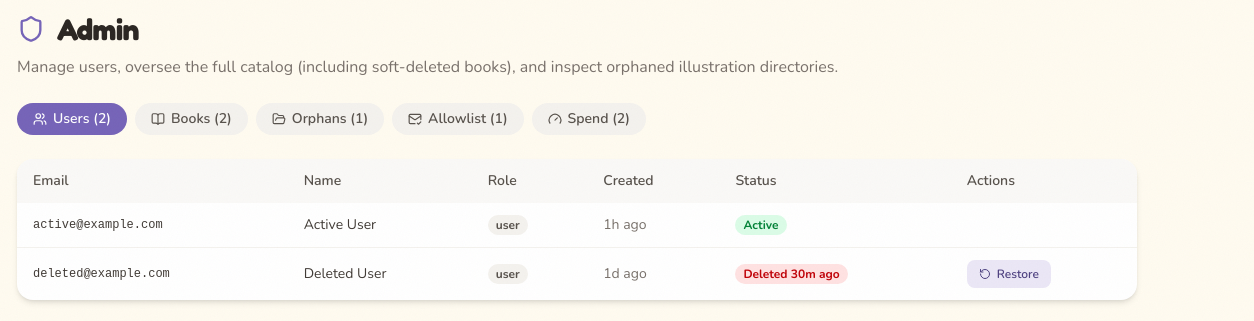
it: Admin page › shows a toast when restoring a user fails, and the row stays deleted
Expected: the text "deleted@example.com" is shown, [17,248,288,300]
Click the button with aria-label "Restore user deleted@example.com".
click(1009, 274)  # box [967,260,1051,288]
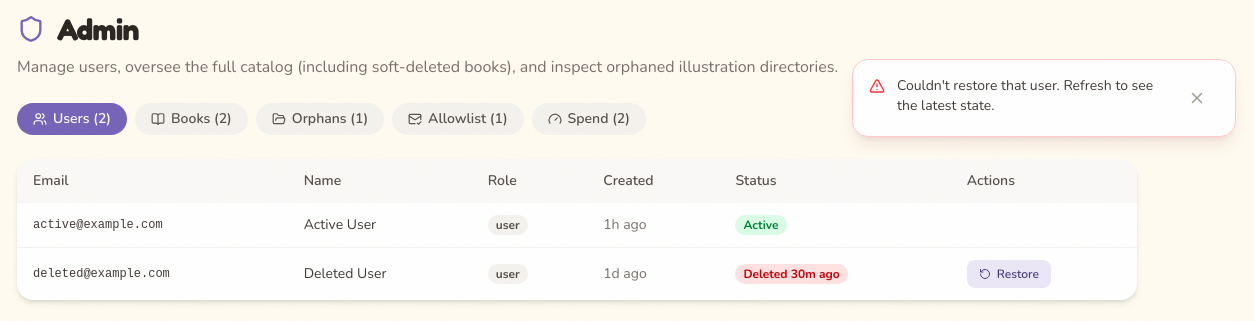
Expected: the text "Active" is shown once, [735,215,786,235]
Now the text "Couldn't restore that user. Refresh to see the latest state." is shown, box [897,76,1163,116]
